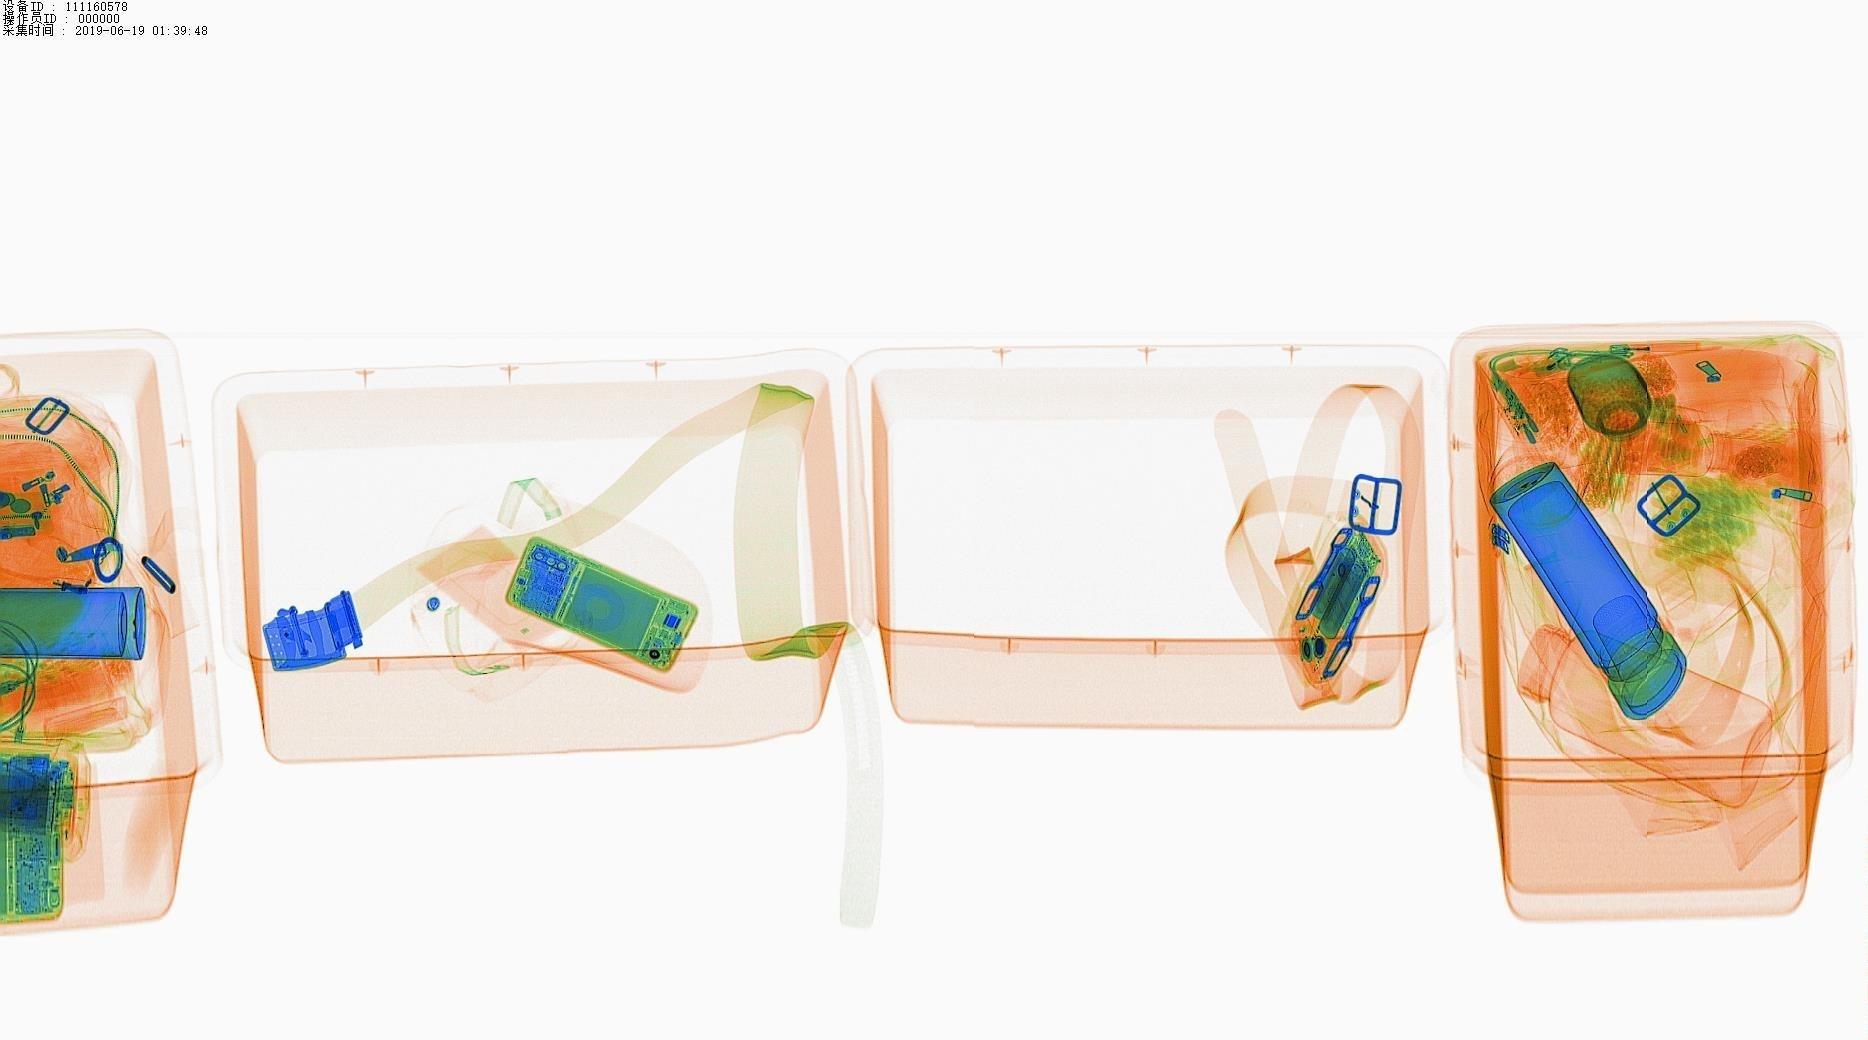NonmetallicFire: (1603, 327, 1721, 374), (1511, 337, 1588, 386)
